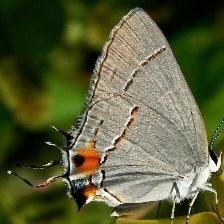butterfly: (61, 8, 221, 208)
